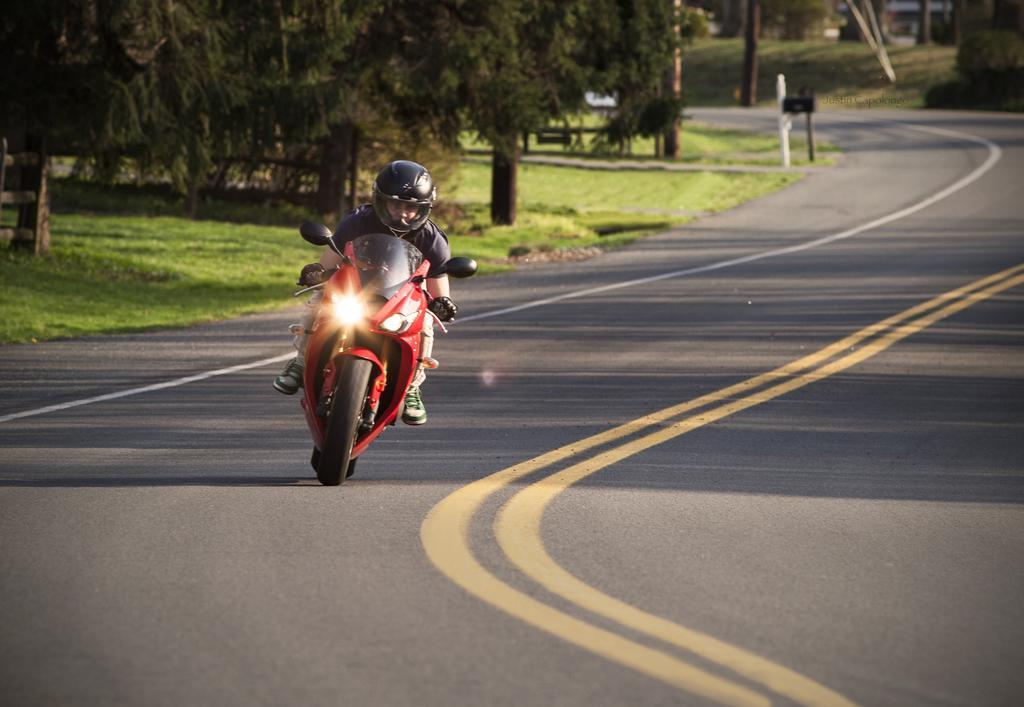helmet: (371, 159, 438, 233)
